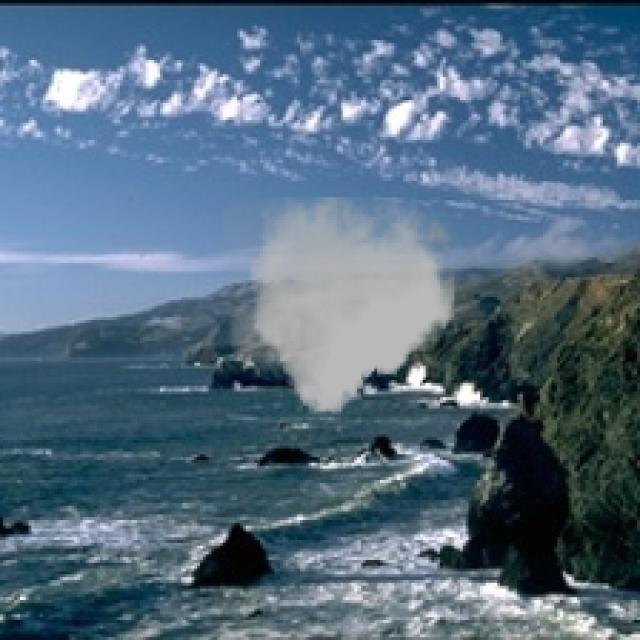Smoke: (223, 197, 460, 414)
